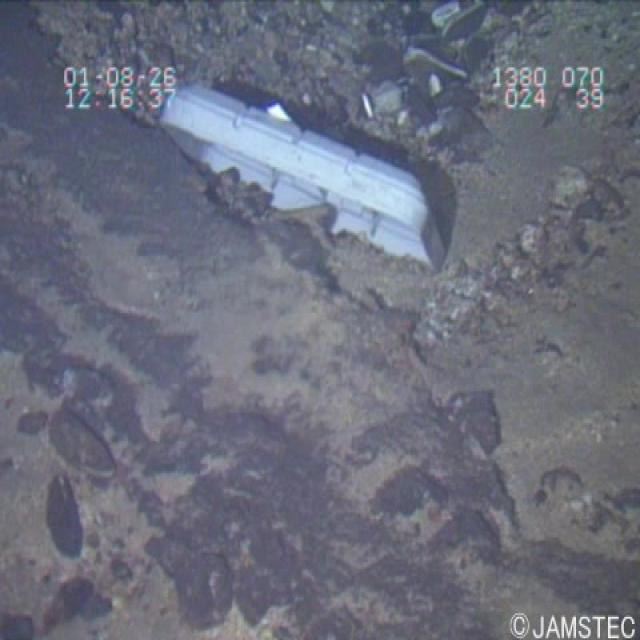plastic: (152, 73, 455, 288)
